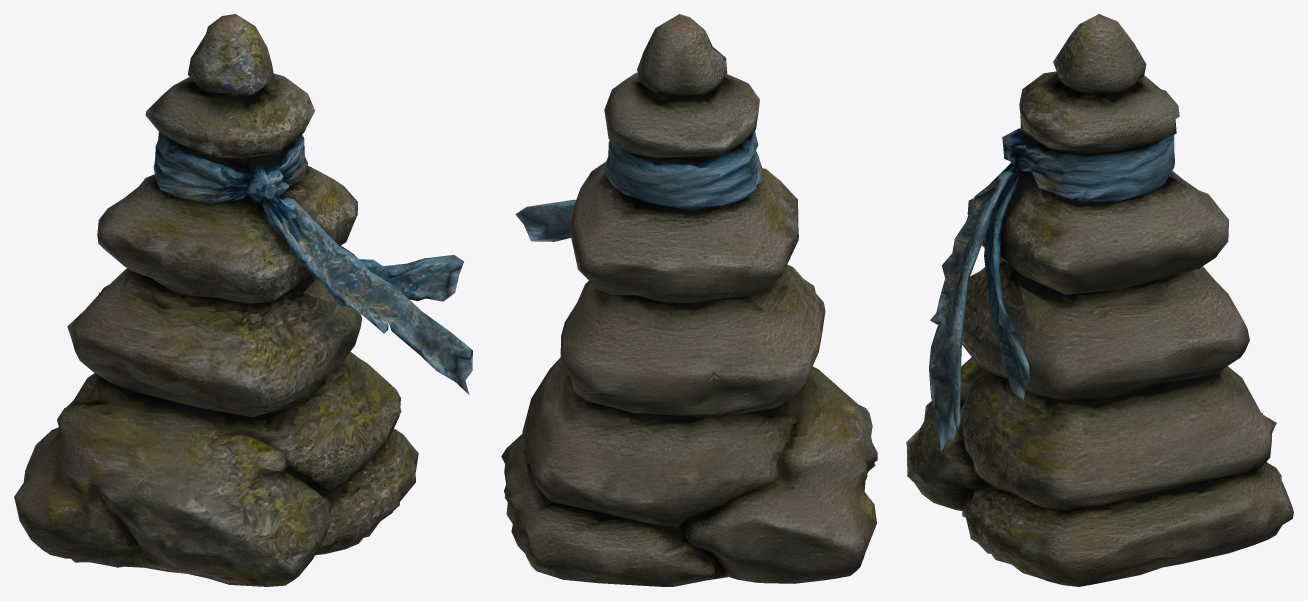
Rendered from SteppeCairn.fbx.
3 renders of one model, left to right at view 1: azimuth 30°, elevation 25°; view 2: azimuth 150°, elevation 25°; view 3: azimuth 270°, elevation 25°, orthographic.
Visible parts, largest first — view 1: SteppeCairn_Body; view 2: SteppeCairn_Body; view 3: SteppeCairn_Body.
Part boxes in pixels (<box>): SteppeCairn_Body: <box>14,14,472,586</box>; SteppeCairn_Body: <box>501,14,877,586</box>; SteppeCairn_Body: <box>906,14,1293,586</box>.
Bounding box in the file's own units: 0.8181 × 1 × 0.6977.
Materials: 1 (1 with a texture image).
